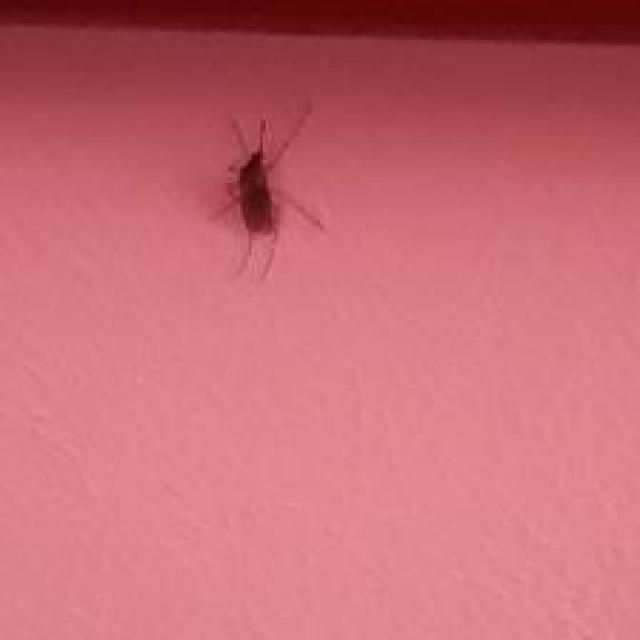Culex: (207, 97, 327, 283)
